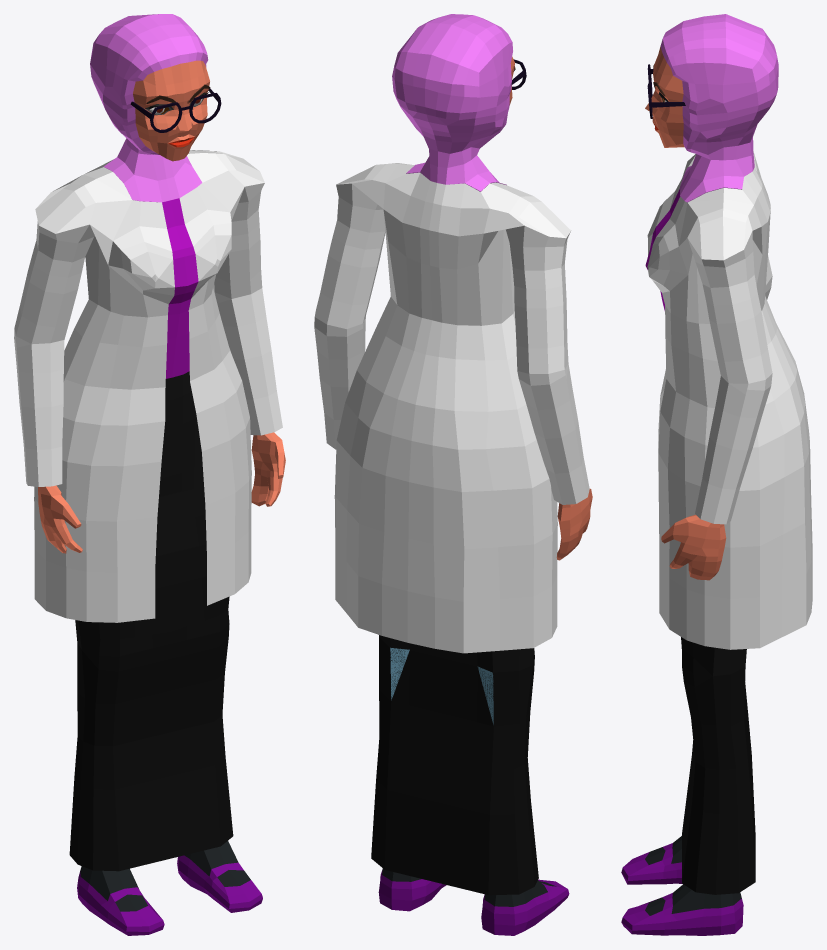
File: ScientistFemale_B_Stand.fbx
3 views of the same model, side by side, from view 1: azimuth 30°, elevation 25°; view 2: azimuth 150°, elevation 25°; view 3: azimuth 270°, elevation 25° (orthographic). The views are drawn at different scales.
Visible parts, largest first — view 1: ScientistFemale_B_Stand; view 2: ScientistFemale_B_Stand; view 3: ScientistFemale_B_Stand.
Boxes of the visible parts, x1,y1,x2,y2 form: ScientistFemale_B_Stand: (14, 14, 285, 935); ScientistFemale_B_Stand: (314, 14, 592, 935); ScientistFemale_B_Stand: (621, 14, 812, 935).
Size of the model in its own units: 0.2819 by 0.9253 by 0.1823.
